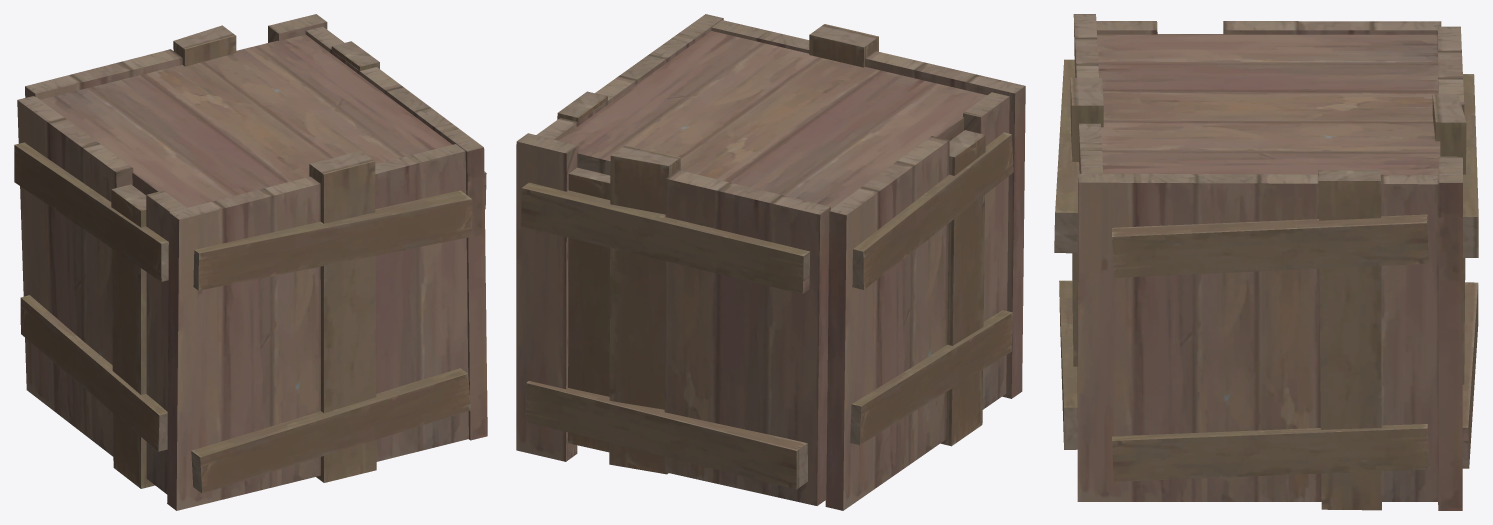
Rendered from Area_MdProps_WoodBox01.fbx.
3 views of the same model, side by side, from view 1: azimuth 30°, elevation 25°; view 2: azimuth 150°, elevation 25°; view 3: azimuth 270°, elevation 25° (orthographic). The views are drawn at different scales.
Visible parts, largest first — view 1: Area_MdProps_WoodBox01_Lod0; view 2: Area_MdProps_WoodBox01_Lod0; view 3: Area_MdProps_WoodBox01_Lod0.
Part boxes in pixels (x1=…): Area_MdProps_WoodBox01_Lod0: x1=14, y1=14, x2=487, y2=510; Area_MdProps_WoodBox01_Lod0: x1=516, y1=14, x2=1025, y2=510; Area_MdProps_WoodBox01_Lod0: x1=1054, y1=14, x2=1478, y2=510.
Bounding box in the file's own units: 6.13 × 5.51 × 6.22.
Materials: 1 (1 with a texture image).
